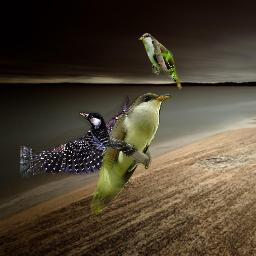Cuckoo: (89, 92, 173, 215), (137, 33, 184, 90)
Woodpecker: (20, 95, 147, 188)
